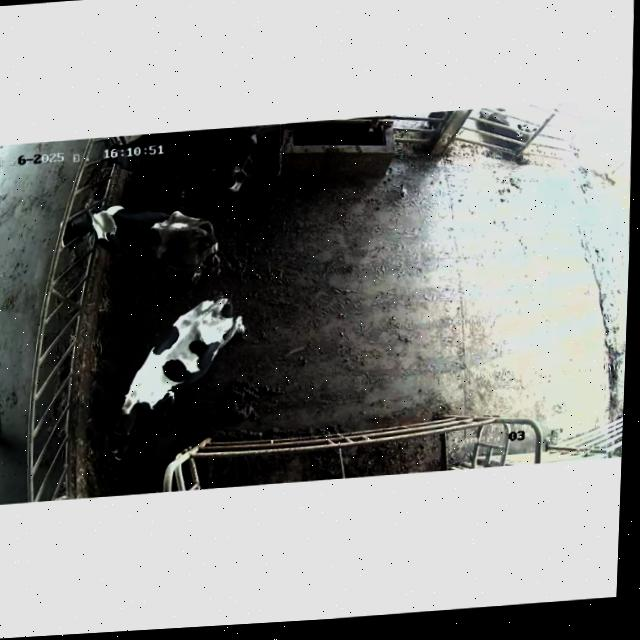eat: (36, 202, 132, 257)
stand: (85, 286, 264, 469), (102, 124, 266, 205)
